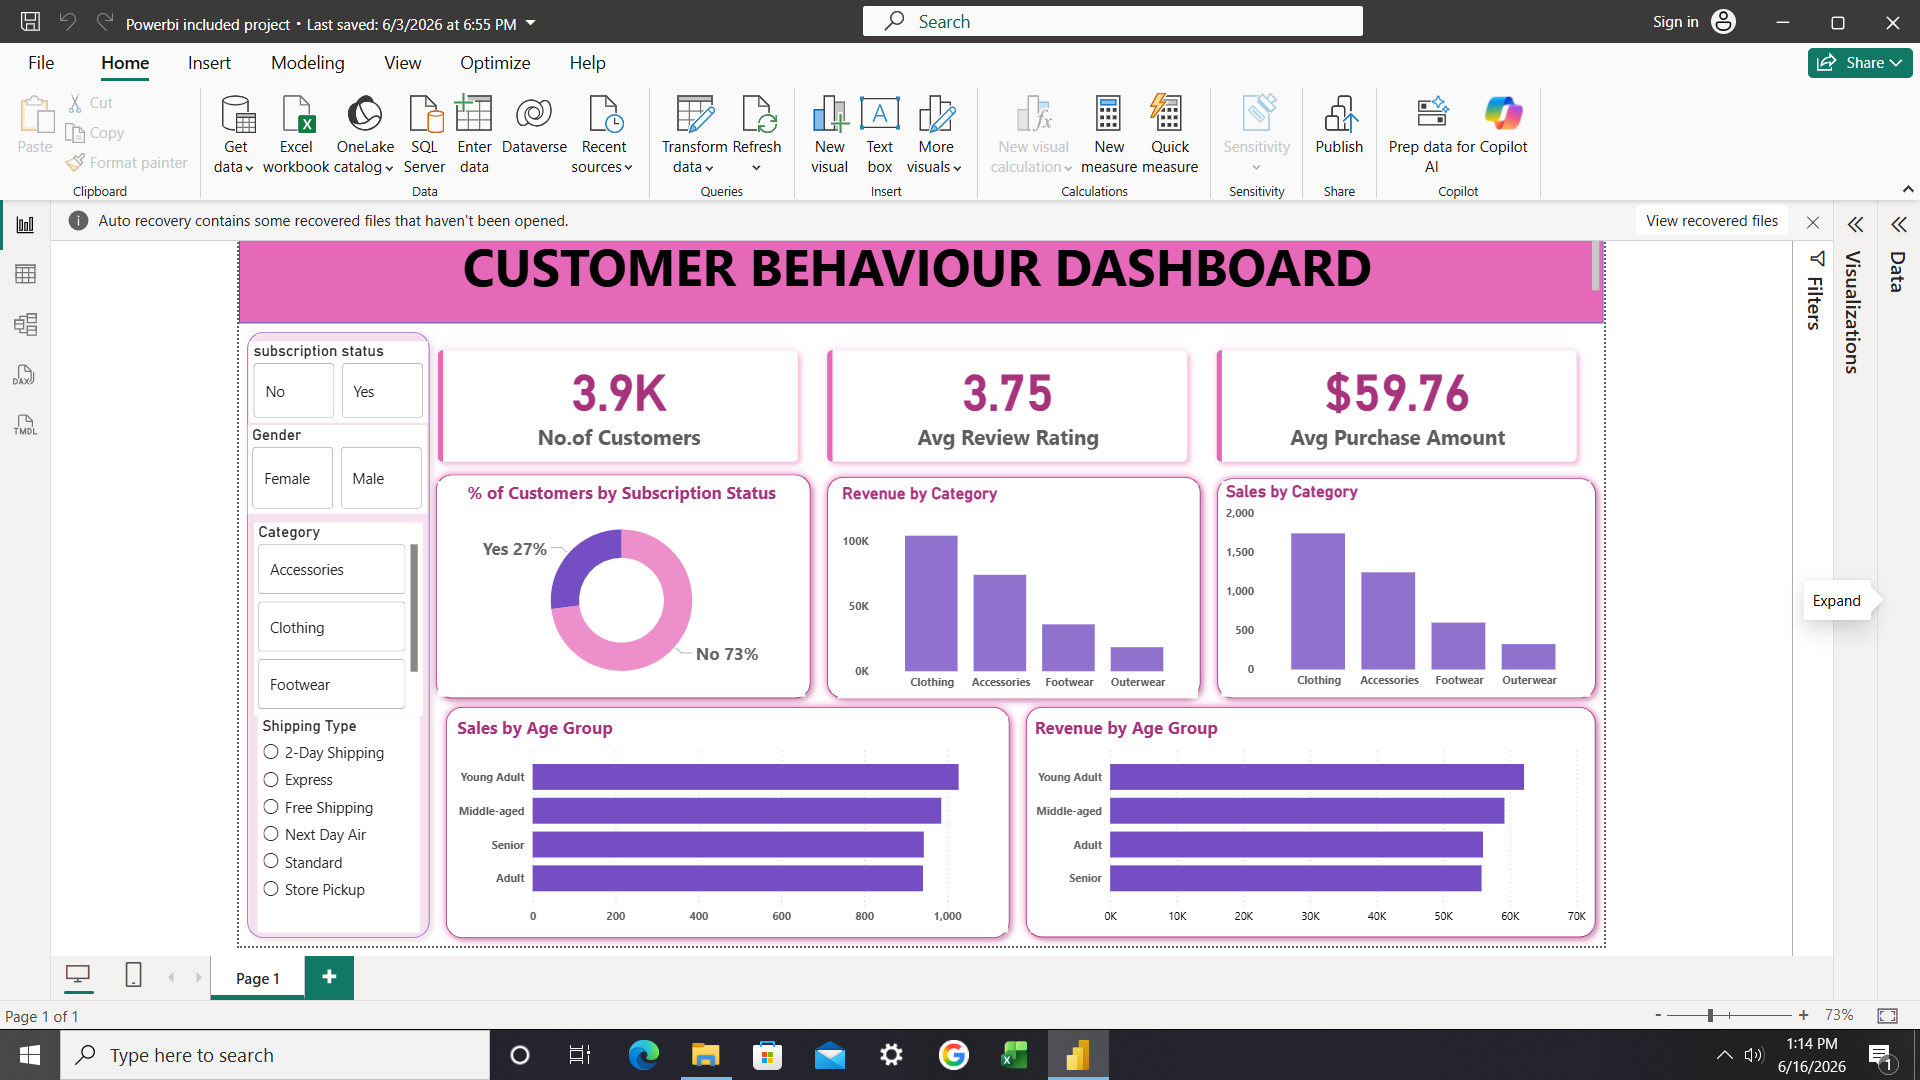

The page's visual inventory and layout, read from the dashboard file:
{"tool":"powerbi","page":{"name":"Page 1","canvas":[1500,820],"ordinal":0},"visuals":[{"type":"cardVisual","fields":{"Data":["customer_shopping_behaviour beh.No.ofCustomers","customer_shopping_behaviour beh.Avg Review Rating","customer_shopping_behaviour beh.Avg Purchase Amount"]},"box":[190,135.7,1310,181.4],"z":0},{"type":"shape","box":[0,0,1500,135.7],"z":1000},{"type":"textbox","box":[0,28.6,1500,80],"z":2000},{"type":"shape","box":[207.1,292.9,430,264.3],"z":3000},{"type":"donutChart","title":"% of Customers by Subscription Status","fields":{"Category":["customer_shopping_behaviour beh.subscription_status"],"Y":["Count(customer_shopping_behaviour beh.customer_id)"]},"box":[218.6,308.6,404.3,237.1],"z":4000},{"type":"shape","box":[637.1,295.7,428.6,261.4],"z":5000},{"type":"shape","box":[1065.7,297.1,434.3,260],"z":6000},{"type":"clusteredColumnChart","title":"Revenue by Category","fields":{"Y":["Sum(customer_shopping_behaviour beh.purchase_amount)"],"Category":["customer_shopping_behaviour beh.category"]},"box":[658.1,311.9,395.7,236.3],"z":7000},{"type":"clusteredColumnChart","title":"Sales by Category","fields":{"Y":["CountNonNull(customer_shopping_behaviour beh.customer_id)"],"Category":["customer_shopping_behaviour beh.category"]},"box":[1080,308.6,405.7,237.1],"z":8000},{"type":"shape","box":[0,135.7,218.6,684.3],"z":9000},{"type":"advancedSlicerVisual","fields":{"Values":["customer_shopping_behaviour beh.subscription_status"]},"box":[11,155.3,196.5,89.3],"z":10000},{"type":"advancedSlicerVisual","fields":{"Values":["customer_shopping_behaviour beh.gender"]},"box":[9.6,247.3,196.5,97.6],"z":11000},{"type":"advancedSlicerVisual","fields":{"Values":["customer_shopping_behaviour beh.category"]},"box":[16.5,354.5,185.5,213],"z":12000},{"type":"listSlicer","fields":{"Values":["customer_shopping_behaviour beh.shipping_type"]},"box":[20.6,567.5,178.6,237.7],"z":13000},{"type":"shape","box":[855.7,548.6,644.3,271.4],"z":14000},{"type":"shape","box":[218.5,548.2,637.5,272.1],"z":16000},{"type":"clusteredBarChart","title":"Revenue by Age Group","fields":{"Y":["Sum(customer_shopping_behaviour beh.purchase_amount)"],"Category":["customer_shopping_behaviour beh.age_group"]},"box":[869.7,567.5,615.6,237.7],"z":16001},{"type":"clusteredBarChart","title":"Sales by Age Group","fields":{"Category":["customer_shopping_behaviour beh.age_group"],"Y":["CountNonNull(customer_shopping_behaviour beh.customer_id)"]},"box":[235,567.5,610.1,237.7],"z":16002}]}

Visuals, with their boxes on the page's 1500x820 design canvas (x1, y1, x2, y2). These are canvas units, not pixel positions in the 1920x1080 screenshot, which may show the page scaled, cropped or inside an application window:
cardVisual - customer_shopping_behaviour beh.No.ofCustomers x customer_shopping_behaviour beh.Avg Review Rating: (x1=190, y1=136, x2=1500, y2=317)
shape: (x1=0, y1=0, x2=1500, y2=136)
textbox: (x1=0, y1=29, x2=1500, y2=109)
shape: (x1=207, y1=293, x2=637, y2=557)
"% of Customers by Subscription Status" donutChart: (x1=219, y1=309, x2=623, y2=546)
shape: (x1=637, y1=296, x2=1066, y2=557)
shape: (x1=1066, y1=297, x2=1500, y2=557)
"Revenue by Category" clusteredColumnChart: (x1=658, y1=312, x2=1054, y2=548)
"Sales by Category" clusteredColumnChart: (x1=1080, y1=309, x2=1486, y2=546)
shape: (x1=0, y1=136, x2=219, y2=820)
advancedSlicerVisual - customer_shopping_behaviour beh.subscription_status: (x1=11, y1=155, x2=208, y2=245)
advancedSlicerVisual - customer_shopping_behaviour beh.gender: (x1=10, y1=247, x2=206, y2=345)
advancedSlicerVisual - customer_shopping_behaviour beh.category: (x1=16, y1=354, x2=202, y2=568)
listSlicer - customer_shopping_behaviour beh.shipping_type: (x1=21, y1=568, x2=199, y2=805)
shape: (x1=856, y1=549, x2=1500, y2=820)
shape: (x1=218, y1=548, x2=856, y2=820)
"Revenue by Age Group" clusteredBarChart: (x1=870, y1=568, x2=1485, y2=805)
"Sales by Age Group" clusteredBarChart: (x1=235, y1=568, x2=845, y2=805)
